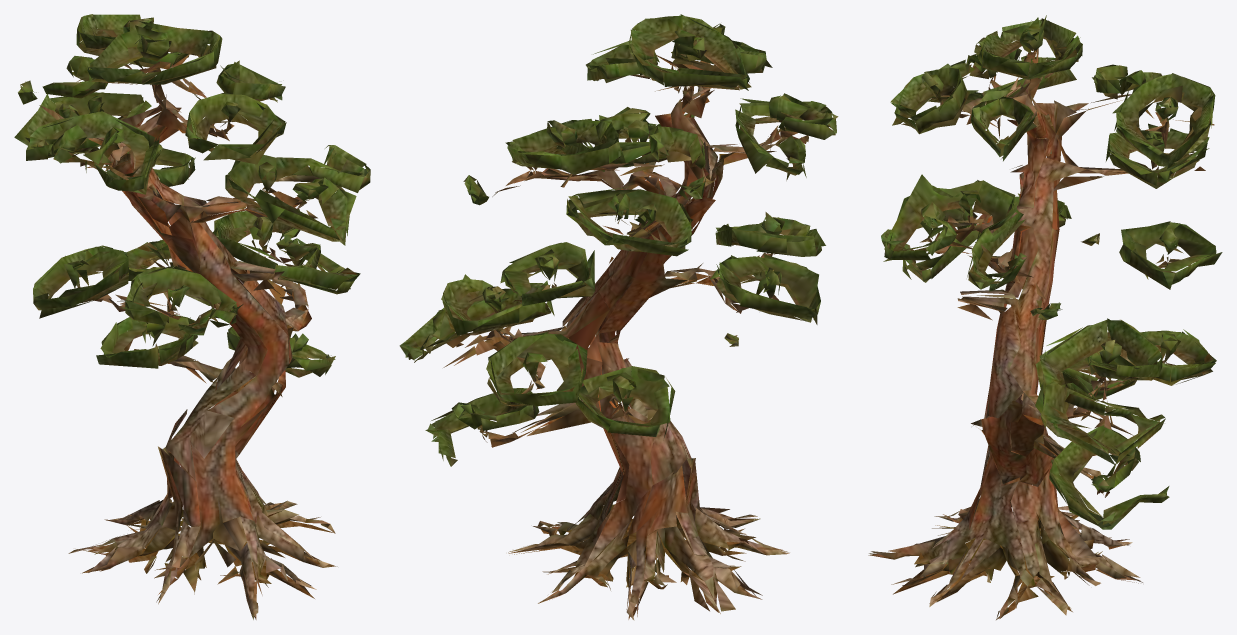
Rendered from pinheiro_vermelho_lod1.glb.
3 views of the same model, side by side, from view 1: azimuth 30°, elevation 25°; view 2: azimuth 150°, elevation 25°; view 3: azimuth 270°, elevation 25° (orthographic). The views are drawn at different scales.
Parts seen in each view (by area): view 1: pinheiro_vermelho; view 2: pinheiro_vermelho; view 3: pinheiro_vermelho.
Boxes of the visible parts, box(x1,y1,x2,y2) form: pinheiro_vermelho: box(14, 14, 370, 619); pinheiro_vermelho: box(399, 14, 838, 620); pinheiro_vermelho: box(868, 15, 1222, 619).
Bounding box in the file's own units: 6.3 × 9.15 × 5.54.
1 material, 1 textured.
